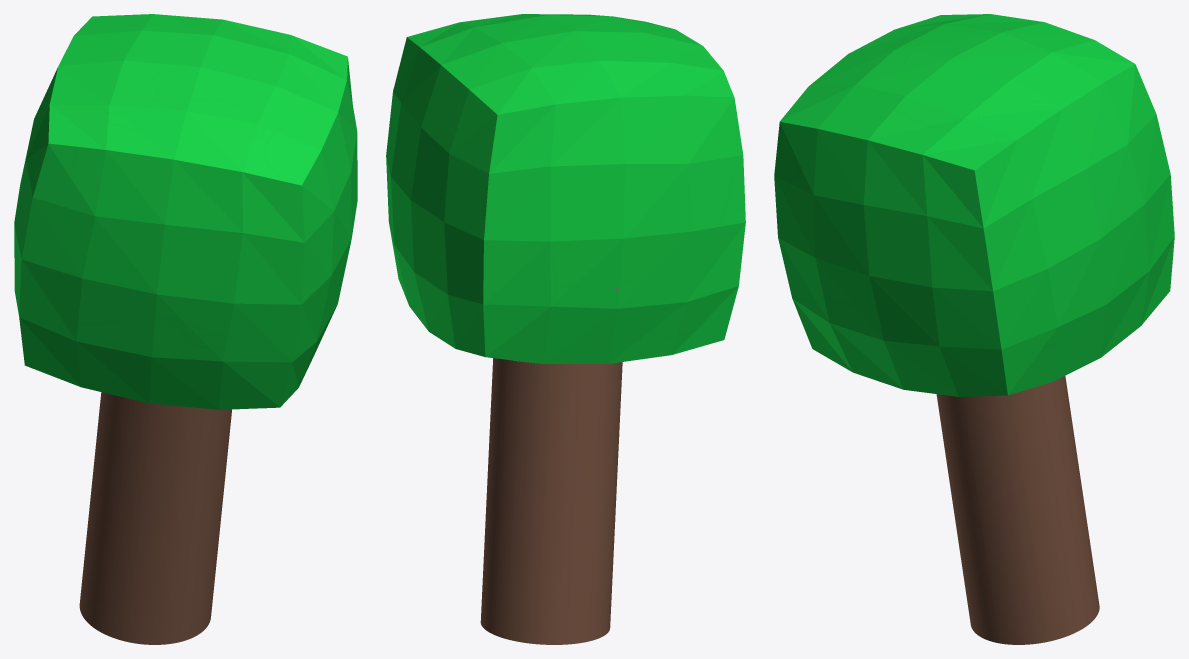
The model's file is tree.fbx.
3 renders of one model, left to right at view 1: azimuth 30°, elevation 25°; view 2: azimuth 150°, elevation 25°; view 3: azimuth 270°, elevation 25°, orthographic.
Parts seen in each view (by area): view 1: node_id6 (×2); view 2: node_id6 (×2); view 3: node_id6 (×2).
Boxes of the visible parts, x1=… form: node_id6 (×2): x1=14, y1=14, x2=357, y2=644; node_id6 (×2): x1=386, y1=14, x2=745, y2=644; node_id6 (×2): x1=774, y1=14, x2=1174, y2=644.
Size of the model in its own units: 0.6085 by 0.9712 by 0.6156.
Materials: 2 (2 with a texture image).
